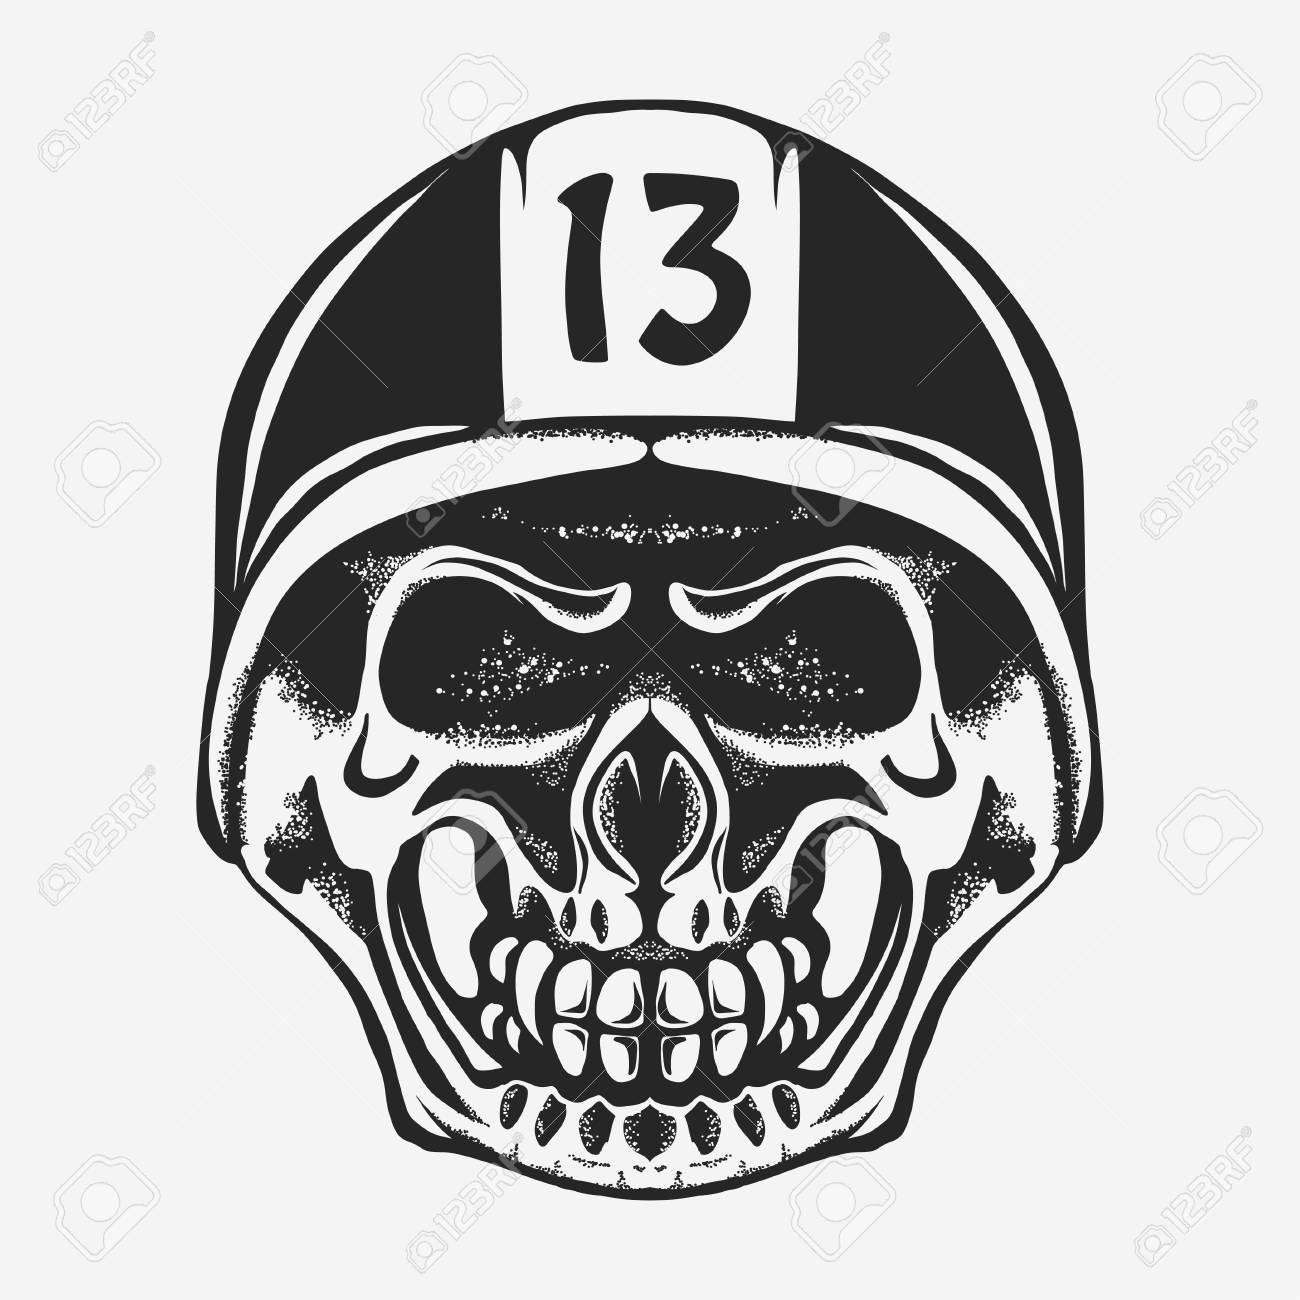with_helmet: (151, 102, 1120, 901)
